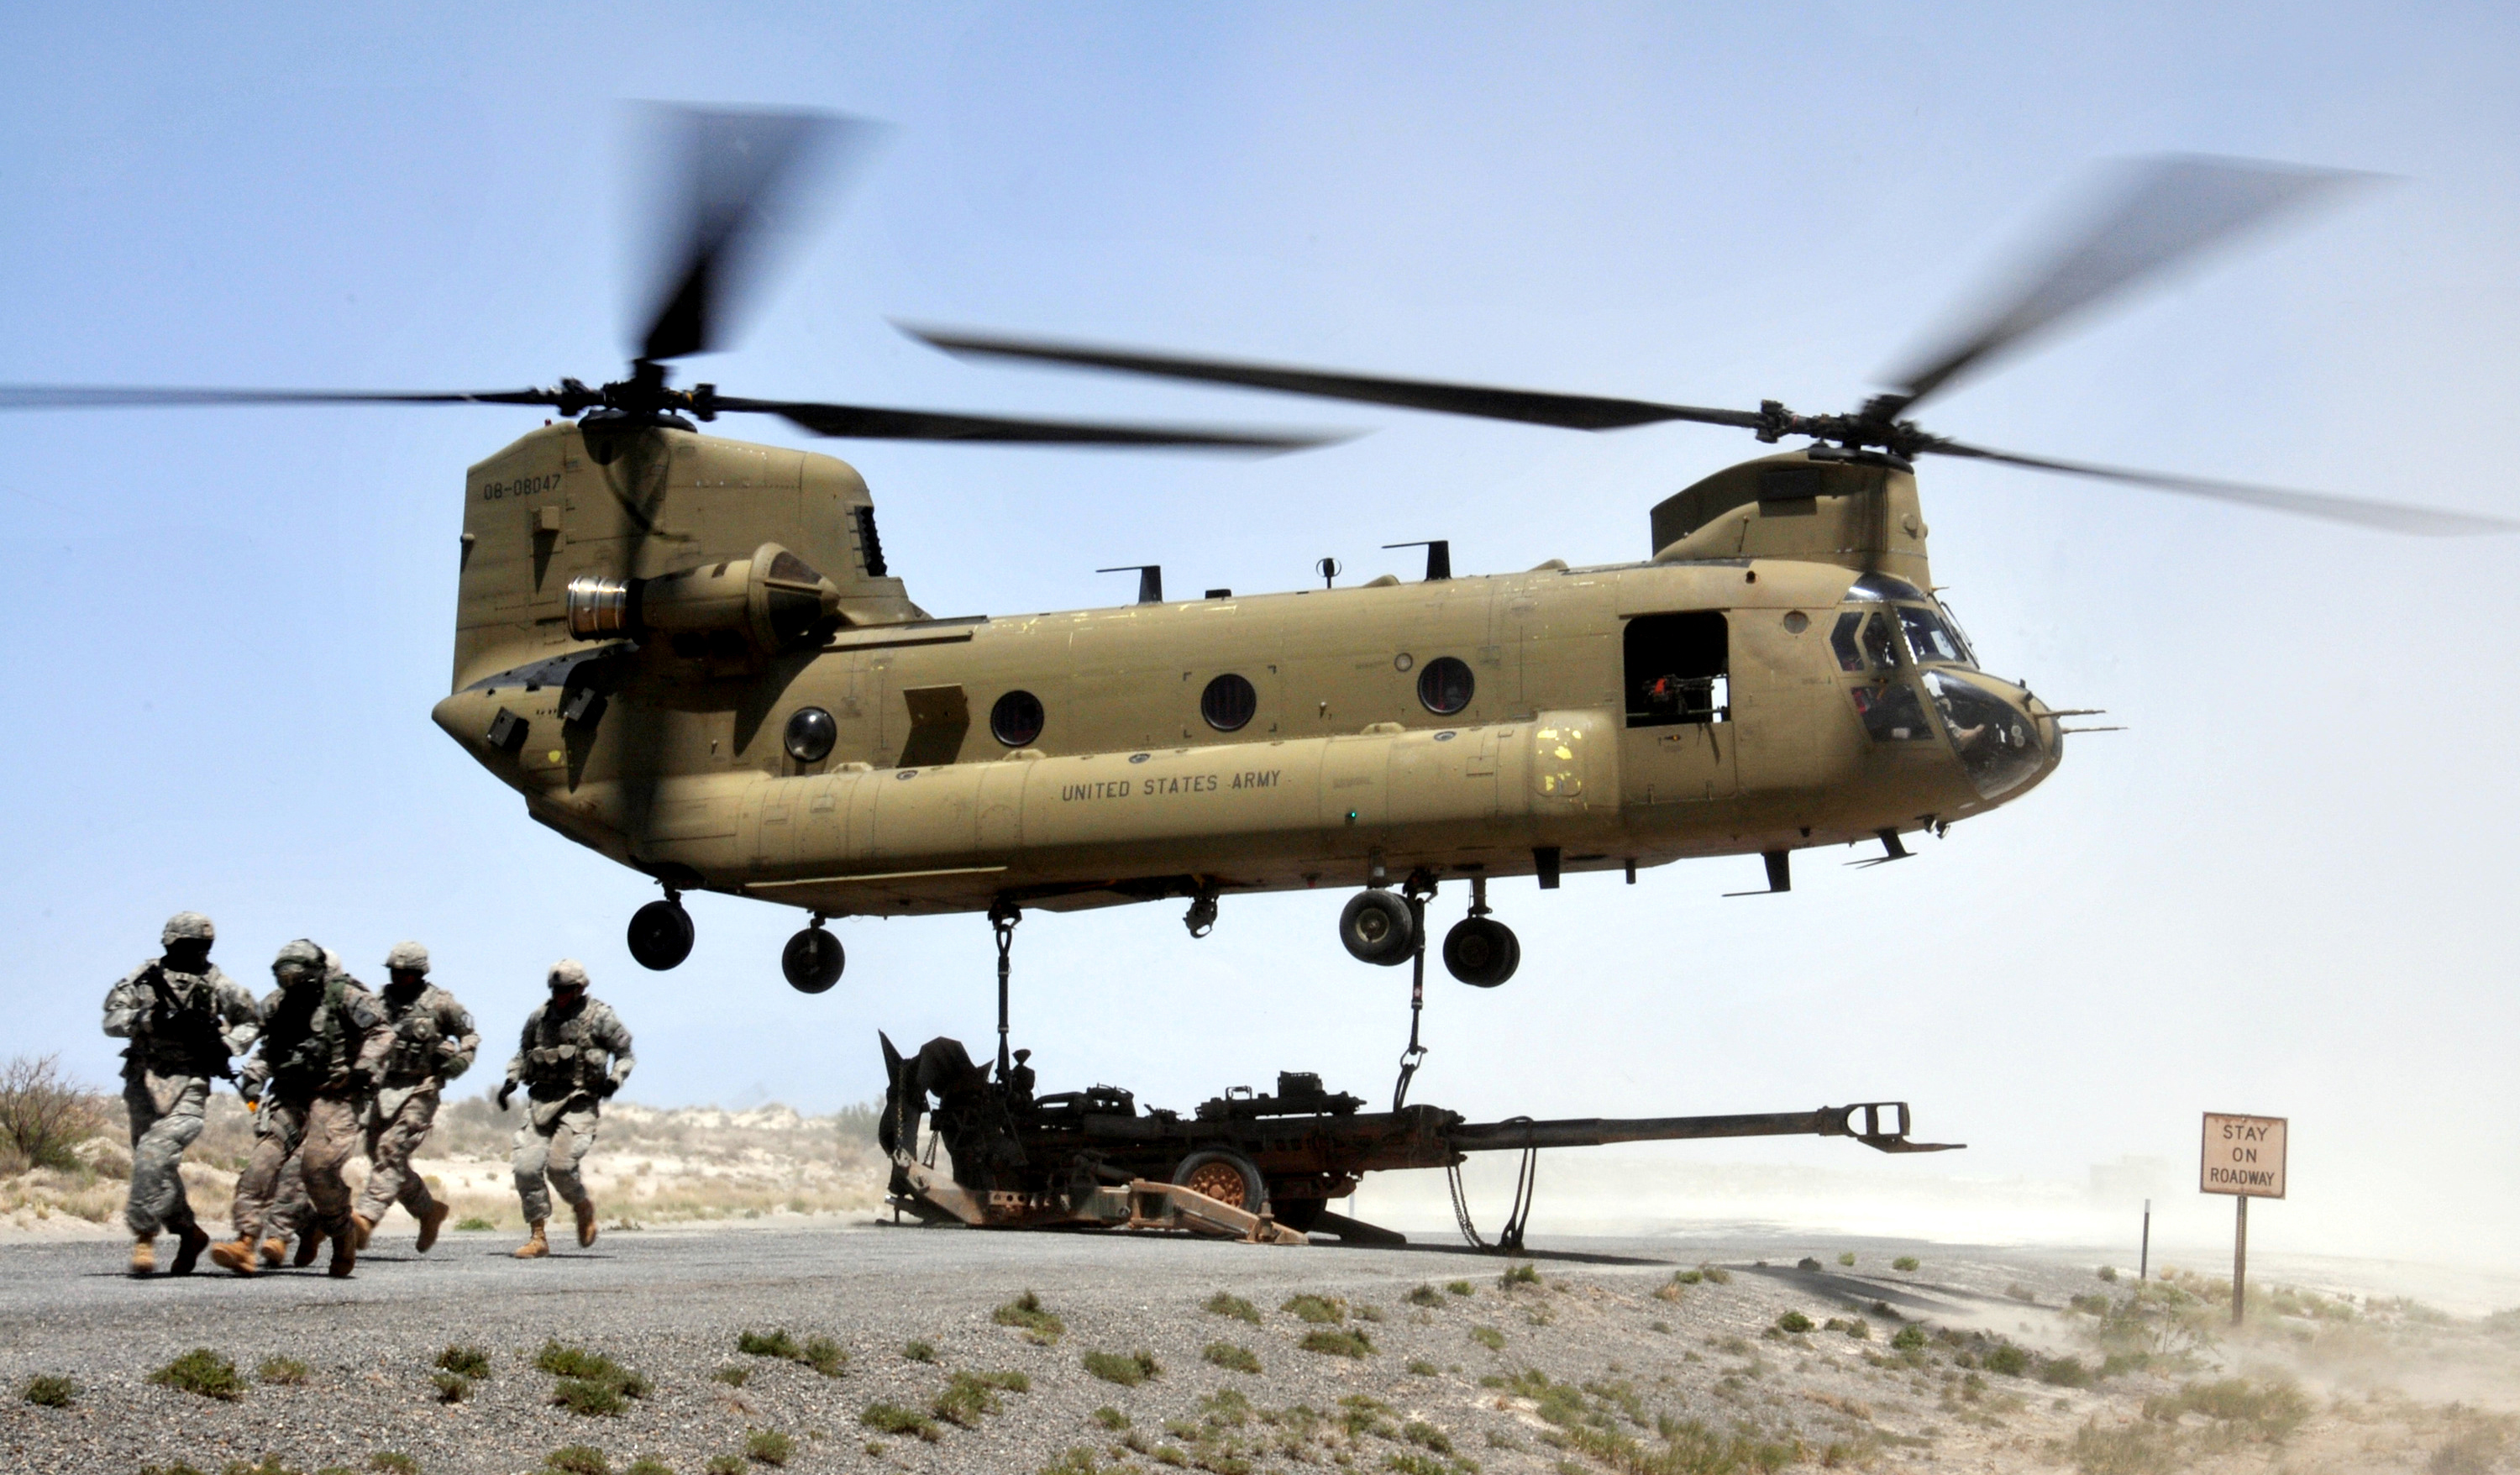MilitaryHelicopter: (353, 288, 2262, 966)
